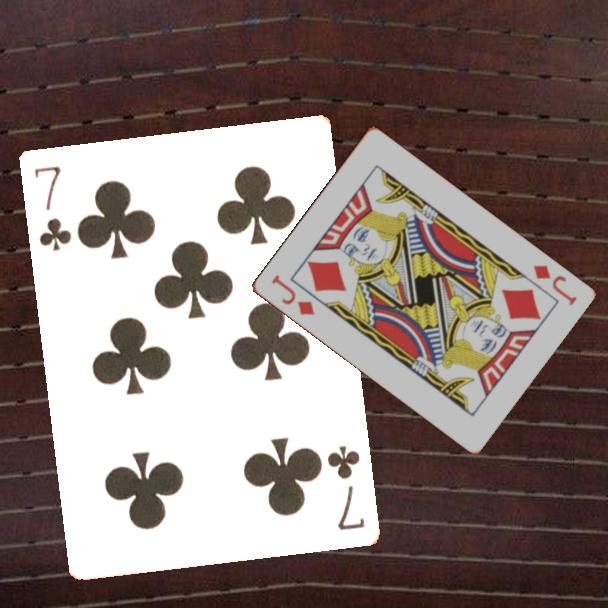c07: (323, 441, 367, 533), (30, 162, 74, 253)
d11: (529, 261, 579, 309), (267, 271, 317, 318)
